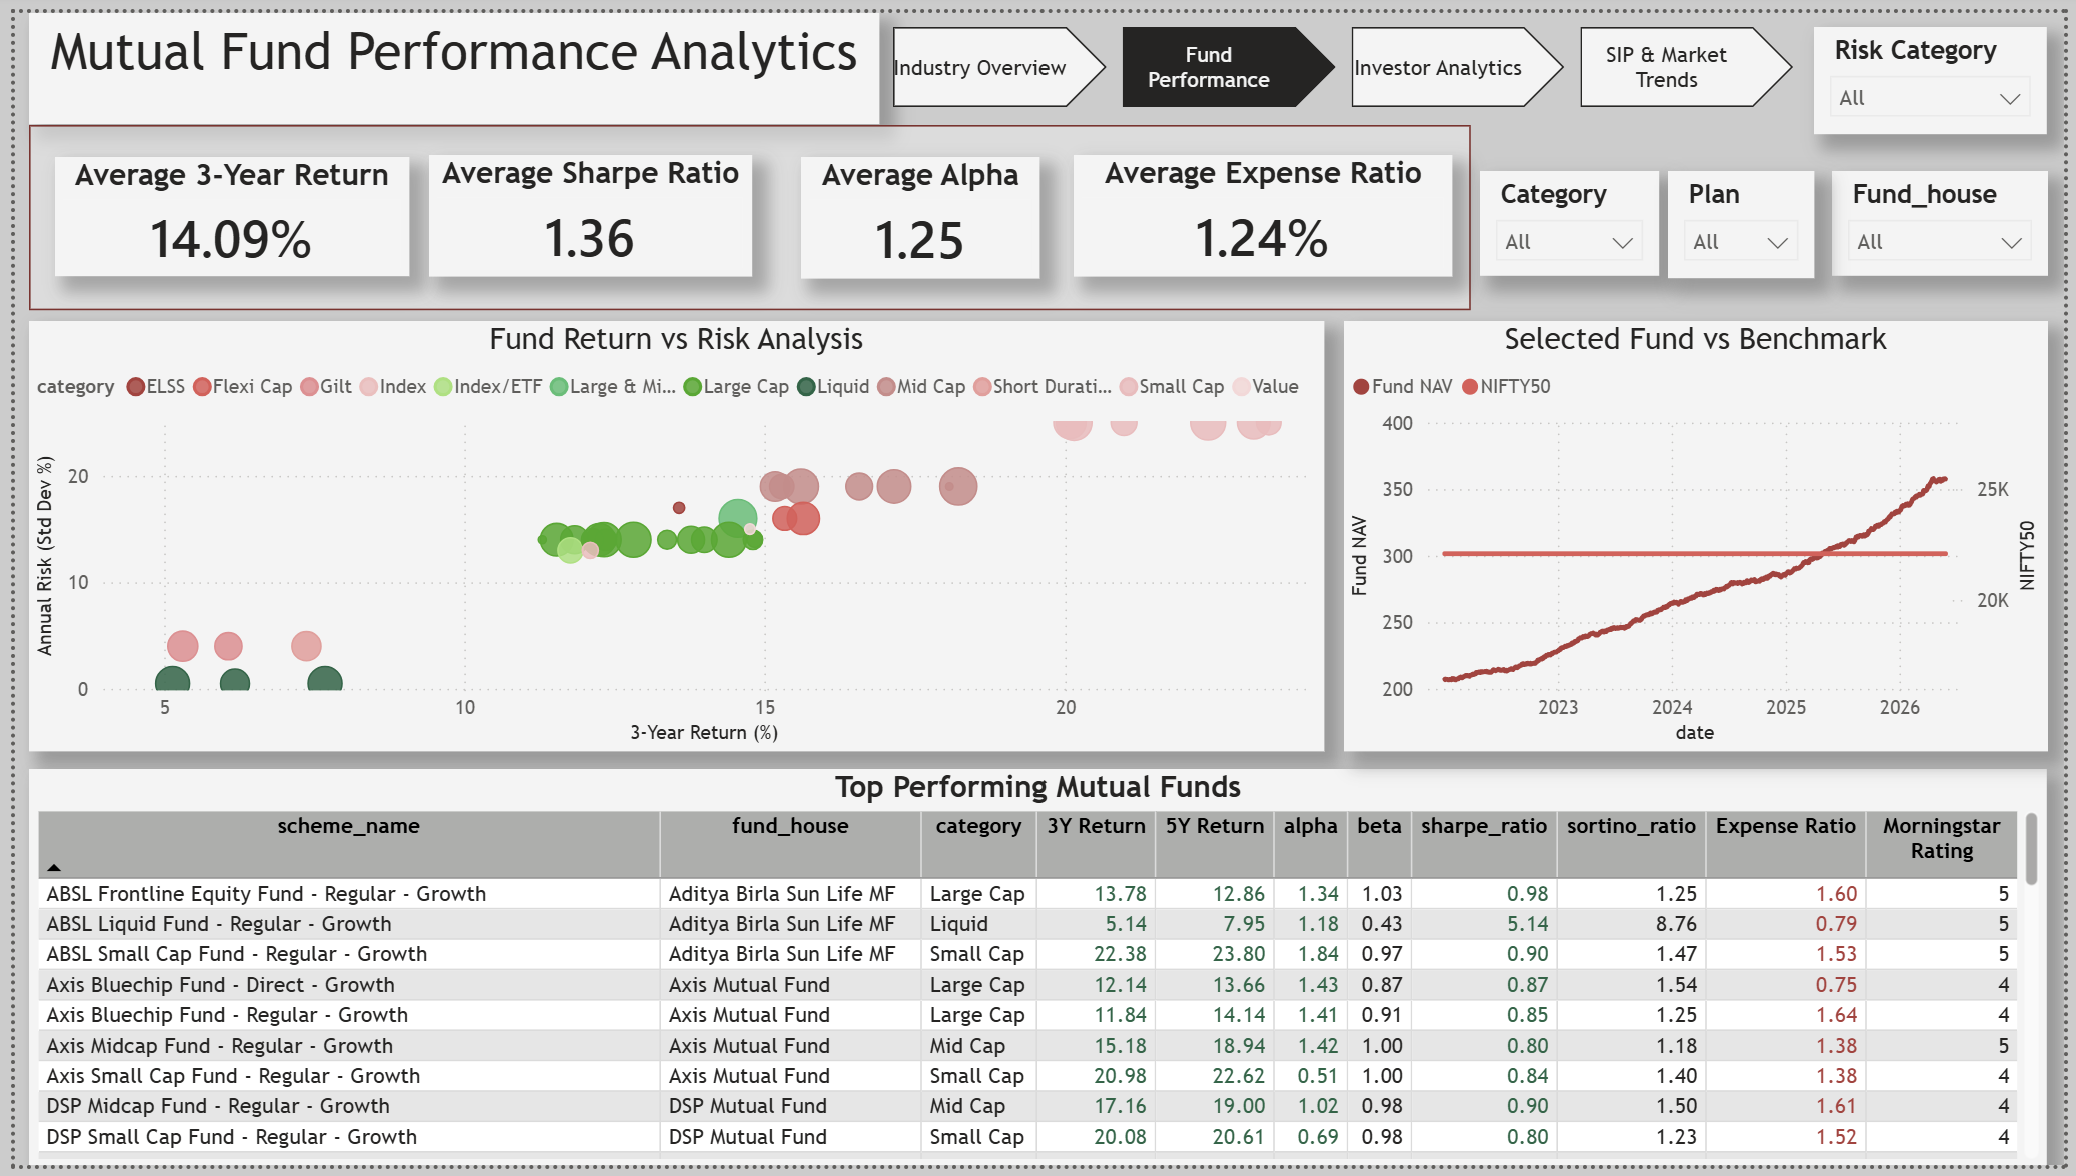

The page's visual inventory and layout, read from the dashboard file:
{"tool":"powerbi","page":{"name":"Fund Performance","canvas":[1280,720],"ordinal":1},"visuals":[{"type":"textbox","box":[9,0,531.3,69.5],"z":0},{"type":"shape","box":[9,69.5,900.5,115.8],"z":1000},{"type":"cardVisual","title":"Average 3-Year Return","fields":{"Data":["DAX_Measures.Avg Return %"]},"box":[24.4,90.1,221.3,74.6],"z":2000},{"type":"cardVisual","title":"Average Sharpe Ratio","fields":{"Data":["DAX_Measures.Avg Sharpe"]},"box":[258.6,88.8,202,75.9],"z":3000},{"type":"cardVisual","title":"Average Alpha","fields":{"Data":["DAX_Measures.Avg Alpha"]},"box":[491.4,90.1,149.2,75.9],"z":4000},{"type":"cardVisual","title":"Average Expense Ratio","fields":{"Data":["DAX_Measures.Avg Expense"]},"box":[661.2,88.8,236.7,75.9],"z":5000},{"type":"slicer","fields":{"Values":["01_fund_master.fund_house"]},"box":[1134.6,99.1,135.1,65.6],"z":6000},{"type":"slicer","fields":{"Values":["01_fund_master.category"]},"box":[914.7,99.1,111.9,65.6],"z":7000},{"type":"pageNavigator","box":[549.3,9,564.7,50.2],"z":8000},{"type":"scatterChart","title":"Fund Return vs Risk Analysis","fields":{"X":["07_scheme_performance.return_3yr_pct"],"Size":["Avg(07_scheme_performance.aum_crore)"],"Series":["07_scheme_performance.category"],"Y":["07_scheme_performance.std_dev_ann_pct"]},"box":[9,193,809.2,268.9],"z":9000},{"type":"slicer","fields":{"Values":["07_scheme_performance.risk_grade"]},"box":[1124.3,9,145.4,66.9],"z":10000},{"type":"slicer","fields":{"Values":["07_scheme_performance.plan"]},"box":[1033,99.1,91.3,66.9],"z":11000},{"type":"tableEx","title":"Top Performing Mutual Funds","fields":{"Values":["07_scheme_performance.scheme_name","07_scheme_performance.fund_house","07_scheme_performance.category","07_scheme_performance.return_3yr_pct","07_scheme_performance.return_5yr_pct","07_scheme_performance.alpha","07_scheme_performance.beta","07_scheme_performance.sharpe_ratio","07_scheme_performance.sortino_ratio","07_scheme_performance.expense_ratio_pct","07_scheme_performance.morningstar_rating"]},"box":[9,472.1,1260.7,248.3],"z":12000},{"type":"lineChart","title":"Selected Fund vs Benchmark","fields":{"Y":["Avg(clean_nav_history.nav)"],"Y2":["Avg(10_benchmark_indices.close_value)"],"Category":["clean_nav_history.date"]},"box":[829.7,193,440,268.9],"z":13000}]}

Visuals, with their boxes in screenshot pixels (x1, y1, x2, y2), scaled from the page's 1280x720 canvas onto the 2076x1176 screenshot:
textbox: (15, 0, 876, 114)
shape: (15, 114, 1475, 303)
"Average 3-Year Return" cardVisual: (40, 147, 398, 269)
"Average Sharpe Ratio" cardVisual: (419, 145, 747, 269)
"Average Alpha" cardVisual: (797, 147, 1039, 271)
"Average Expense Ratio" cardVisual: (1072, 145, 1456, 269)
slicer - 01_fund_master.fund_house: (1840, 162, 2059, 269)
slicer - 01_fund_master.category: (1484, 162, 1665, 269)
pageNavigator: (891, 15, 1807, 97)
"Fund Return vs Risk Analysis" scatterChart: (15, 315, 1327, 754)
slicer - 07_scheme_performance.risk_grade: (1823, 15, 2059, 124)
slicer - 07_scheme_performance.plan: (1675, 162, 1823, 271)
"Top Performing Mutual Funds" tableEx: (15, 771, 2059, 1175)
"Selected Fund vs Benchmark" lineChart: (1346, 315, 2059, 754)
